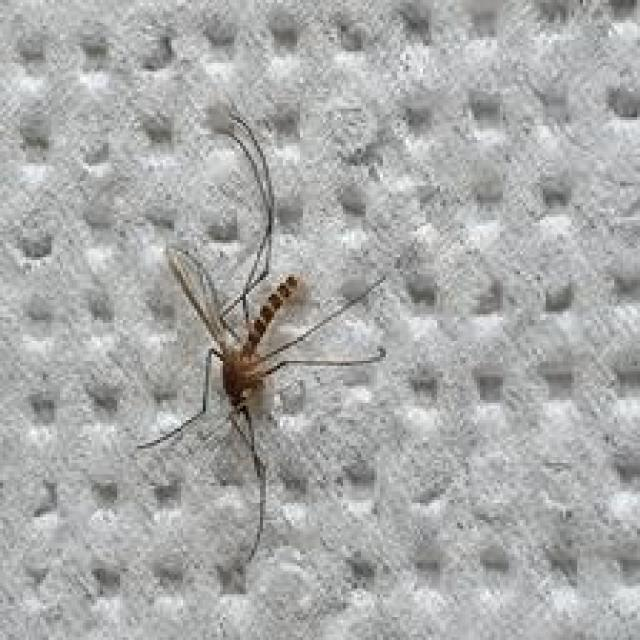Culex: (134, 100, 389, 569)
